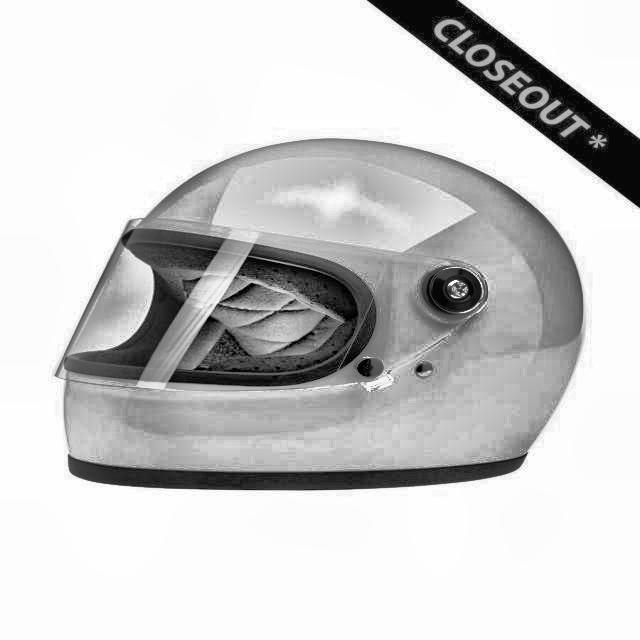Helmet: (41, 130, 596, 497)
